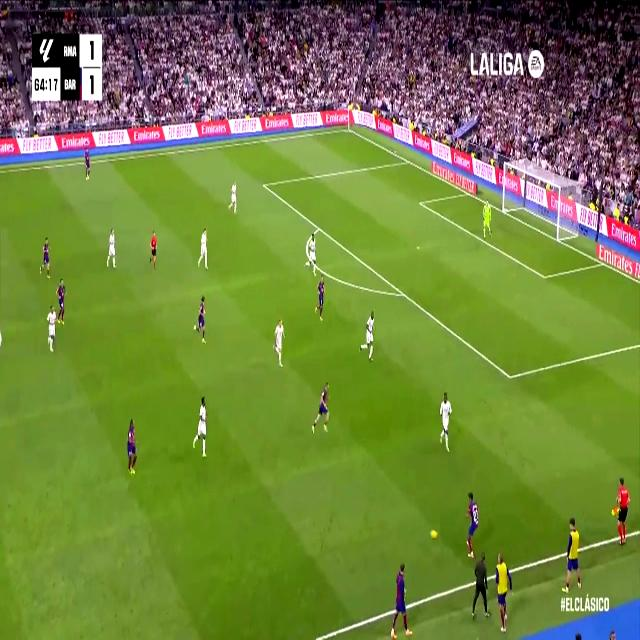bigarea_bottom_inner: (505, 365, 515, 388)
bigarea_top_inner: (261, 178, 267, 192)
bottom_arc_area_intersection: (398, 284, 408, 302)
corner: (345, 125, 352, 134)
smallarea_bottom_inner: (540, 268, 548, 286)
smallarea_top_inner: (417, 196, 423, 208)
top_arc_area_intersection: (316, 220, 322, 234)
